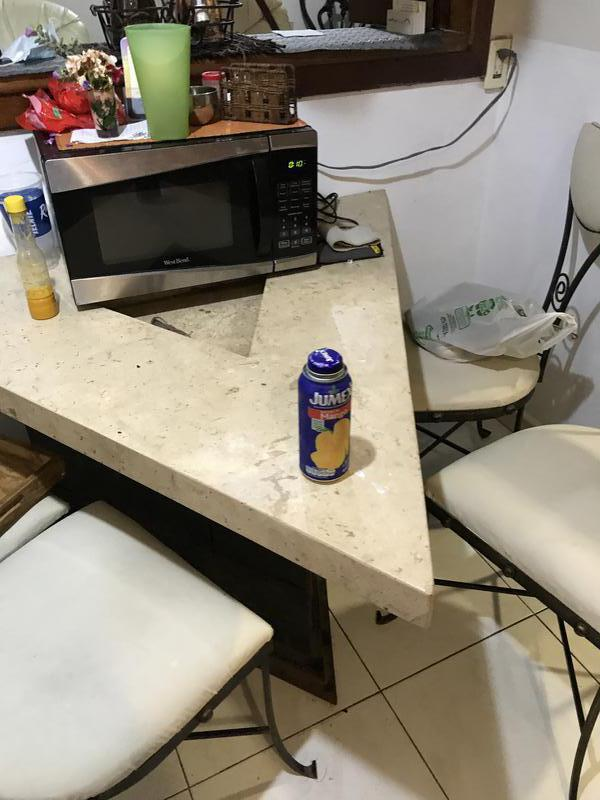jugo_jumex: (299, 348, 354, 484)
